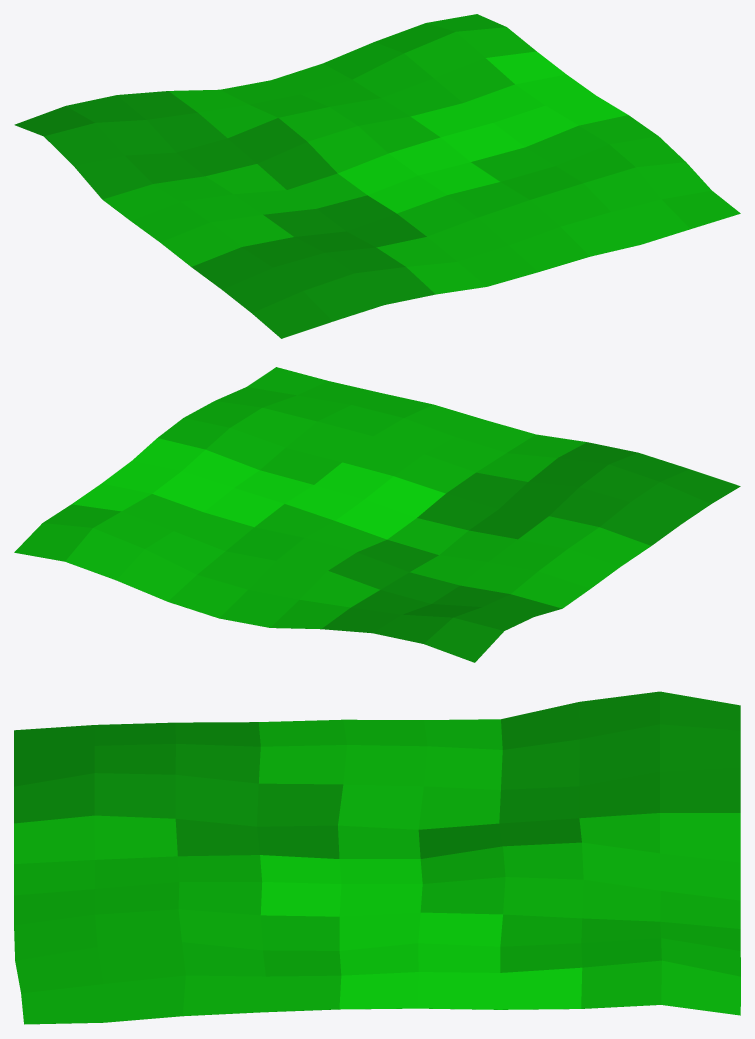
3 views of the same model, one above another, from view 1: azimuth 30°, elevation 25°; view 2: azimuth 150°, elevation 25°; view 3: azimuth 270°, elevation 25° (orthographic). The views are drawn at different scales.
Visible parts, largest first — view 1: Mesh_2a; view 2: Mesh_2a; view 3: Mesh_2a.
Boxes of the visible parts, bbox=[...] form: Mesh_2a: bbox=[14, 14, 740, 338]; Mesh_2a: bbox=[14, 367, 740, 662]; Mesh_2a: bbox=[14, 691, 740, 1024].
Size of the model in its own units: 10105 by 658 by 9983.
